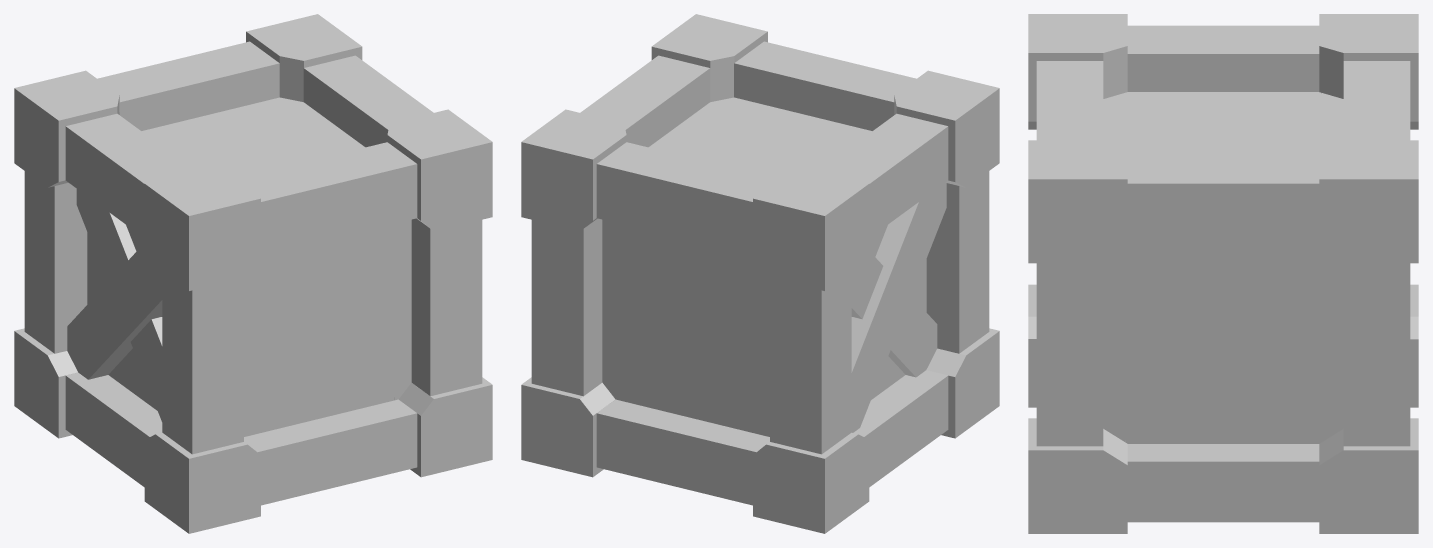
Rendered from Crate-00.fbx.
The picture shows the model from 3 angles, left to right: view 1: azimuth 30°, elevation 25°; view 2: azimuth 150°, elevation 25°; view 3: azimuth 270°, elevation 25°; orthographic projection. The views are drawn at different scales.
Visible parts, largest first — view 1: Cube.001; view 2: Cube.001; view 3: Cube.001.
Boxes of the visible parts, x1,y1,x2,y2 form: Cube.001: (14, 14, 492, 533); Cube.001: (521, 14, 999, 533); Cube.001: (1028, 14, 1418, 533).
Bounding box in the file's own units: 67.57 × 67.57 × 67.39.
